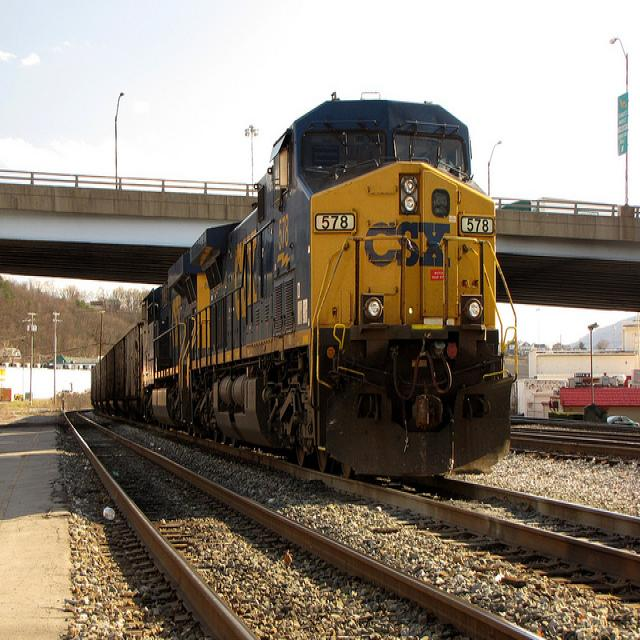Vehicle: (607, 414, 639, 427)
